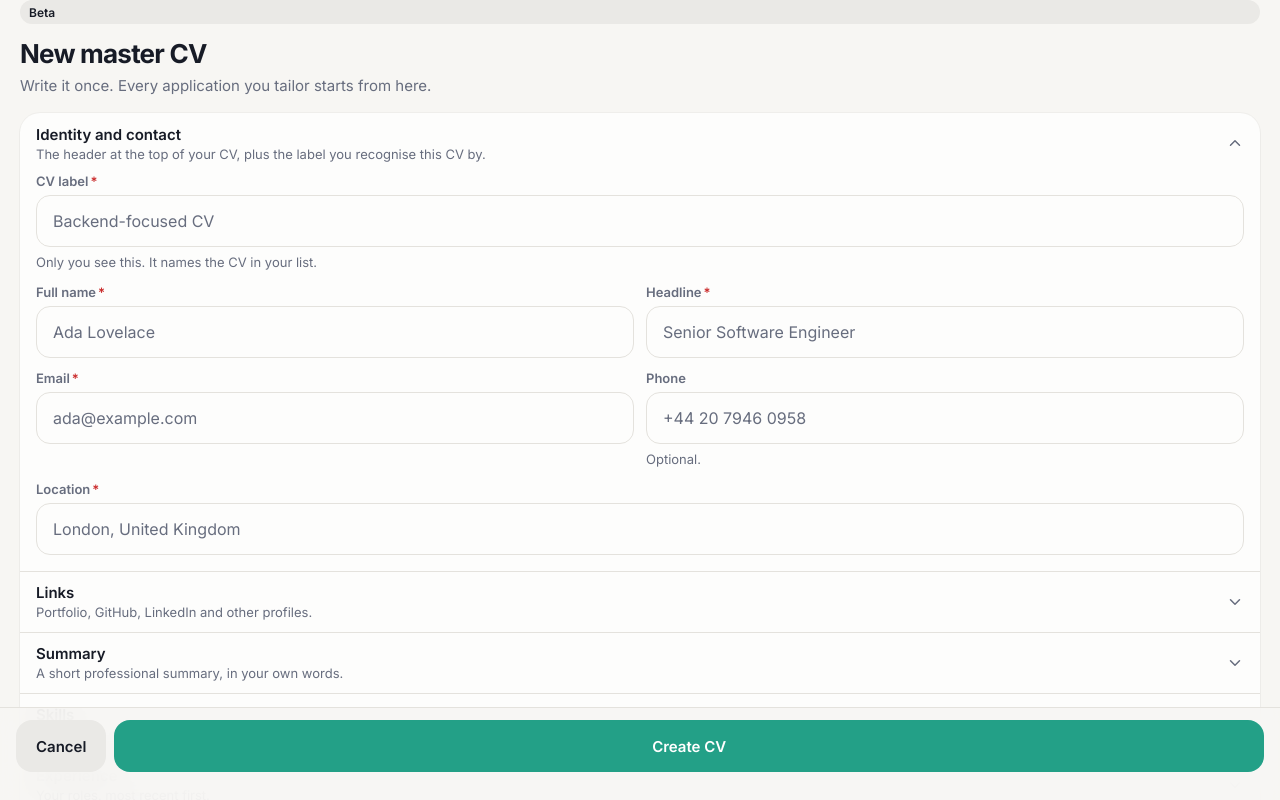
Test case: CvNewScreenView (v3/CVNew) › keeps one row open at a time; an empty list shows its hint and Add, not the description
This screenshot has width=1280, height=800.
Click the button "Links" at (55, 593), box [20,572,1260,632]
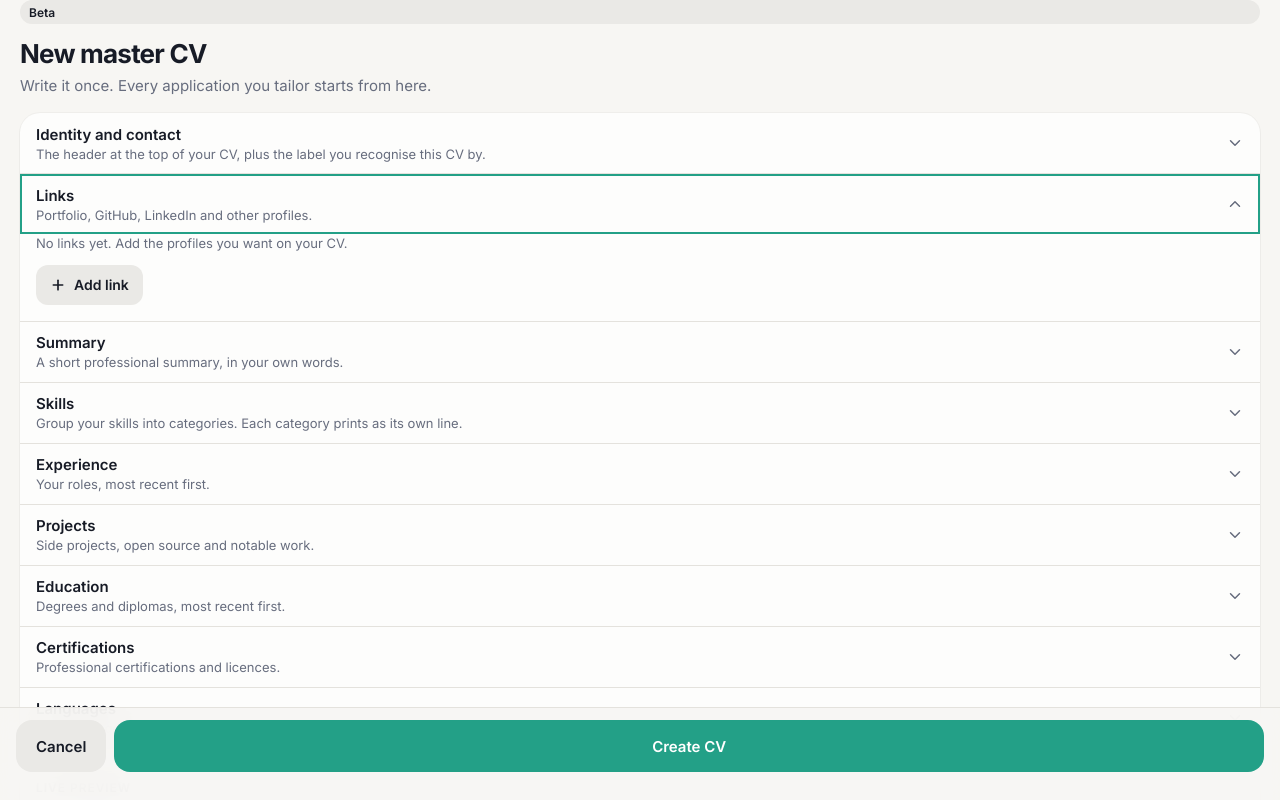
Expected: the button "Identity and contact" is collapsed, [20,113,1260,173]
Expected: the text "No links yet. Add the profiles you want on your CV." is shown, [36,235,347,251]
Expected: the button "Add link" is shown, [36,263,143,307]
